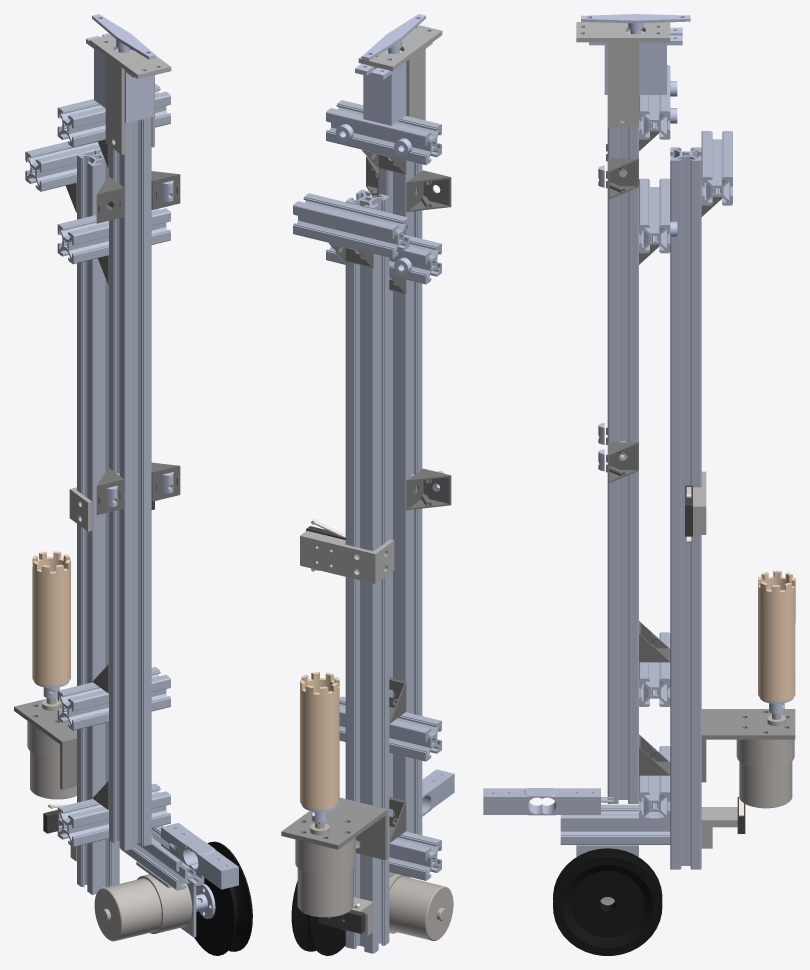
File: drill.dae
The picture shows the model from 3 angles, left to right: view 1: azimuth 30°, elevation 25°; view 2: azimuth 150°, elevation 25°; view 3: azimuth 270°, elevation 25°; orthographic projection. The views are drawn at different scales.
Visible parts, largest first — view 1: 01.06.01.03.02_01_Beam500, 01.06.01.07.00_01_Beam500, 01.06.01.03.01_01_Beam70 (×5), saw drill, 01.06.01.03.03_01_Motor, 01.06.01.03.09_01_SMT Angle (×4), 01.06.01.03.07_01_Pulley Roll, 01.06.01.23.00_01_Servo Holder, 01.06.01.03.06_01_Loadcell, 01.06.01.08.00_01_Motor, 01.06.01.05.00_01_Beam70, 01.06.01.09.00_01_Servo (+4 smaller); view 2: 01.06.01.07.00_01_Beam500, 01.06.01.03.02_01_Beam500, 01.06.01.03.01_01_Beam70 (×4), 01.06.01.03.09_01_SMT Angle (×6), saw drill, 01.06.01.05.00_01_Beam70, 01.06.01.08.00_01_Motor, K\X\F6rper1, 01.06.01.03.03_01_Motor, 01.06.01.27.00_01_Endstop Holder3 (×2), 01.06.01.23.00_01_Servo Holder, 01.06.01.09.00_01_Servo (+6 smaller); view 3: 01.06.01.07.00_01_Beam500, 01.06.01.03.02_01_Beam500, 01.06.01.03.01_01_Beam70 (×5), 01.06.01.03.07_01_Pulley Roll, saw drill, 01.06.01.23.00_01_Servo Holder, 01.06.01.03.09_01_SMT Angle (×4), 01.06.01.08.00_01_Motor, 01.06.01.03.06_01_Loadcell, K\X\F6rper1, 01.06.01.05.00_01_Beam70, 01.06.01.09.00_01_Servo (+2 smaller).
Part boxes in pixels (x1,y1,x2,y2): 01.06.01.03.02_01_Beam500: (109,117,151,850); 01.06.01.07.00_01_Beam500: (77,148,119,894); 01.06.01.03.01_01_Beam70 (×5): (57,84,204,890); saw drill: (32,551,70,685); 01.06.01.03.03_01_Motor: (94,874,201,941); 01.06.01.03.09_01_SMT Angle (×4): (96,171,180,514); 01.06.01.03.07_01_Pulley Roll: (194,841,252,955); 01.06.01.23.00_01_Servo Holder: (89,34,171,154); 01.06.01.03.06_01_Loadcell: (152,823,238,889); 01.06.01.08.00_01_Motor: (27,688,76,799); 01.06.01.05.00_01_Beam70: (25,141,100,191); 01.06.01.09.00_01_Servo: (86,33,153,123); 01.06.01.07.00_01_Beam500: (345,189,389,953); 01.06.01.03.02_01_Beam500: (378,157,422,835); 01.06.01.03.01_01_Beam70 (×4): (326,100,441,880); 01.06.01.03.09_01_SMT Angle (×6): (362,149,451,842); saw drill: (300,672,339,809); 01.06.01.05.00_01_Beam70: (293,193,409,258); 01.06.01.08.00_01_Motor: (295,822,355,917); K\X\F6rper1: (281,797,387,860); 01.06.01.03.03_01_Motor: (389,873,453,940); 01.06.01.27.00_01_Endstop Holder3 (×2): (300,531,394,583); 01.06.01.23.00_01_Servo Holder: (358,25,442,120); 01.06.01.09.00_01_Servo: (355,42,432,125); 01.06.01.07.00_01_Beam500: (670,147,701,869); 01.06.01.03.02_01_Beam500: (607,117,638,803); 01.06.01.03.01_01_Beam70 (×5): (560,65,670,844); 01.06.01.03.07_01_Pulley Roll: (553,848,662,955); saw drill: (758,570,795,701); 01.06.01.23.00_01_Servo Holder: (576,22,670,127); 01.06.01.03.09_01_SMT Angle (×4): (606,158,670,775); 01.06.01.08.00_01_Motor: (736,713,794,808); 01.06.01.03.06_01_Loadcell: (483,788,613,815); K\X\F6rper1: (701,709,795,782); 01.06.01.05.00_01_Beam70: (701,131,732,205); 01.06.01.09.00_01_Servo: (589,27,682,94).
Bounding box in the file's own units: 0.097 × 0.1994 × 0.6329.
